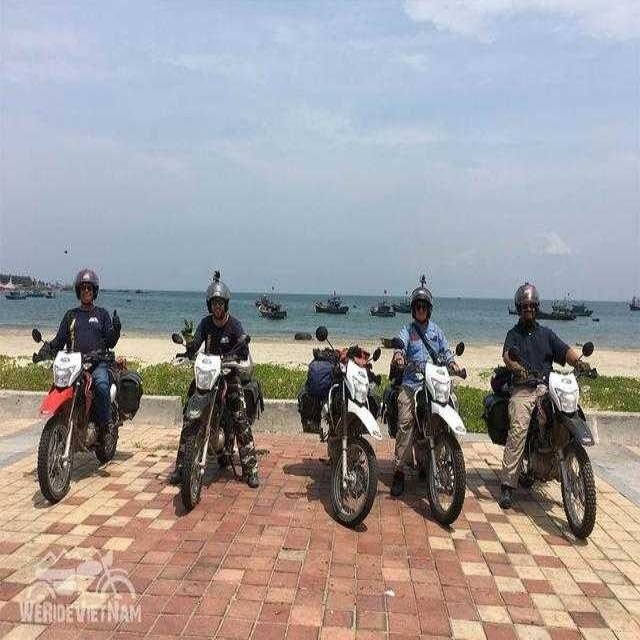Motorcycle: (507, 340, 598, 541), (303, 327, 384, 527), (32, 327, 120, 504), (391, 337, 468, 527), (170, 332, 252, 509)
